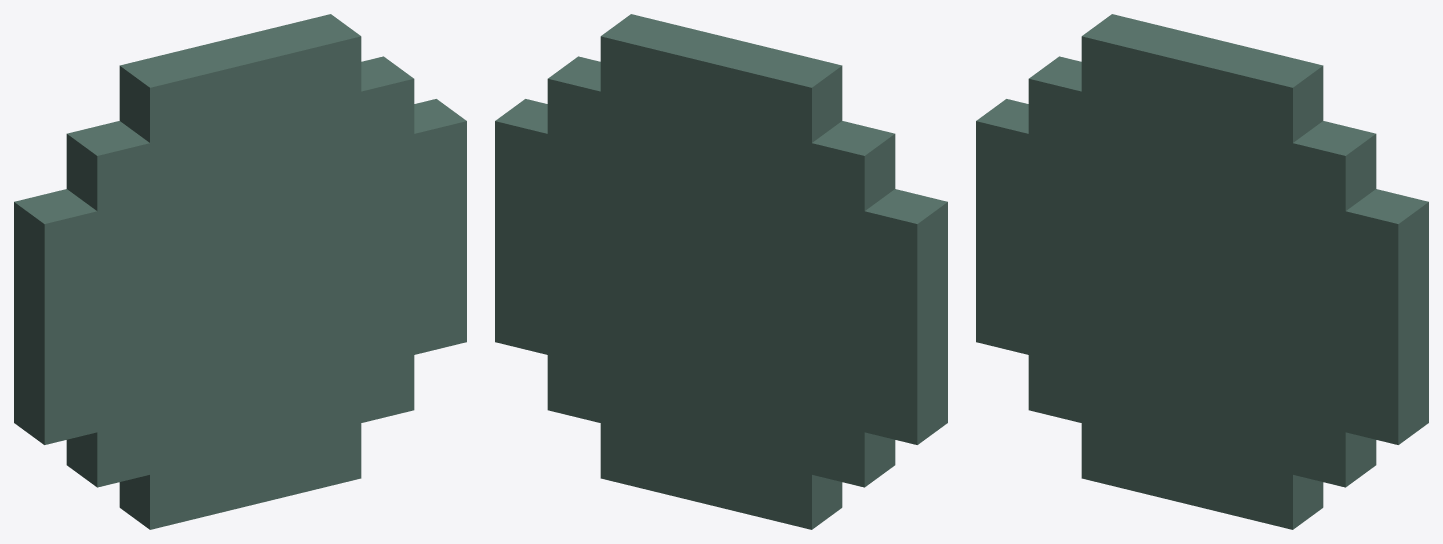
Rendered from Coin_Small_2.obj.
The picture shows the model from 3 angles, left to right: view 1: azimuth 30°, elevation 25°; view 2: azimuth 150°, elevation 25°; view 3: azimuth 330°, elevation 25°; orthographic projection.
Bounding box in the file's own units: 0.2 × 0.2 × 0.025.
